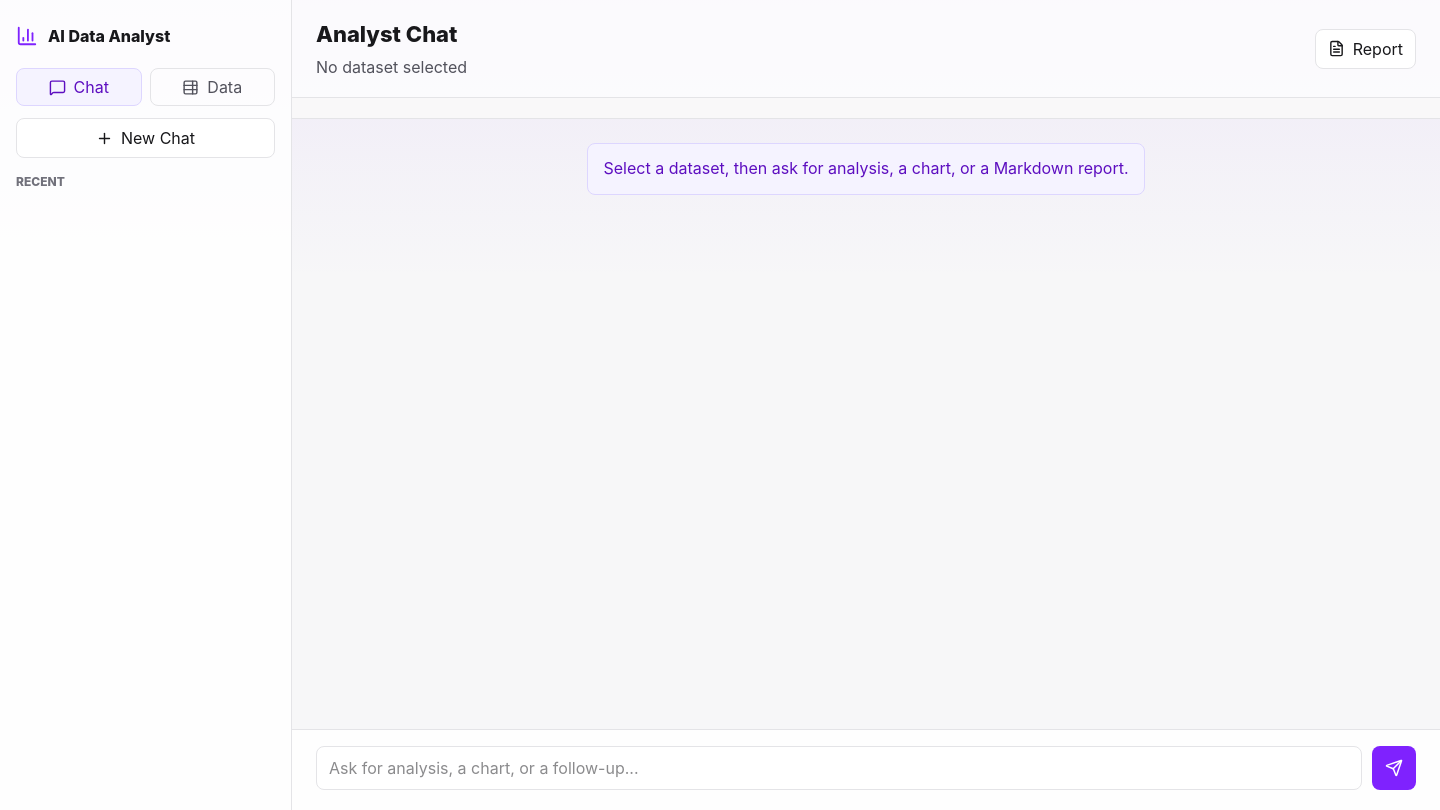
Scenario: App chart artifacts › keeps the app visible when Plotly rendering fails
This screenshot has width=1440, height=810.
Type "draw a chart" into the field with placeholder "Ask for analysis, a chart, or a follow-up..." at (839, 768), box [316,746,1362,790]
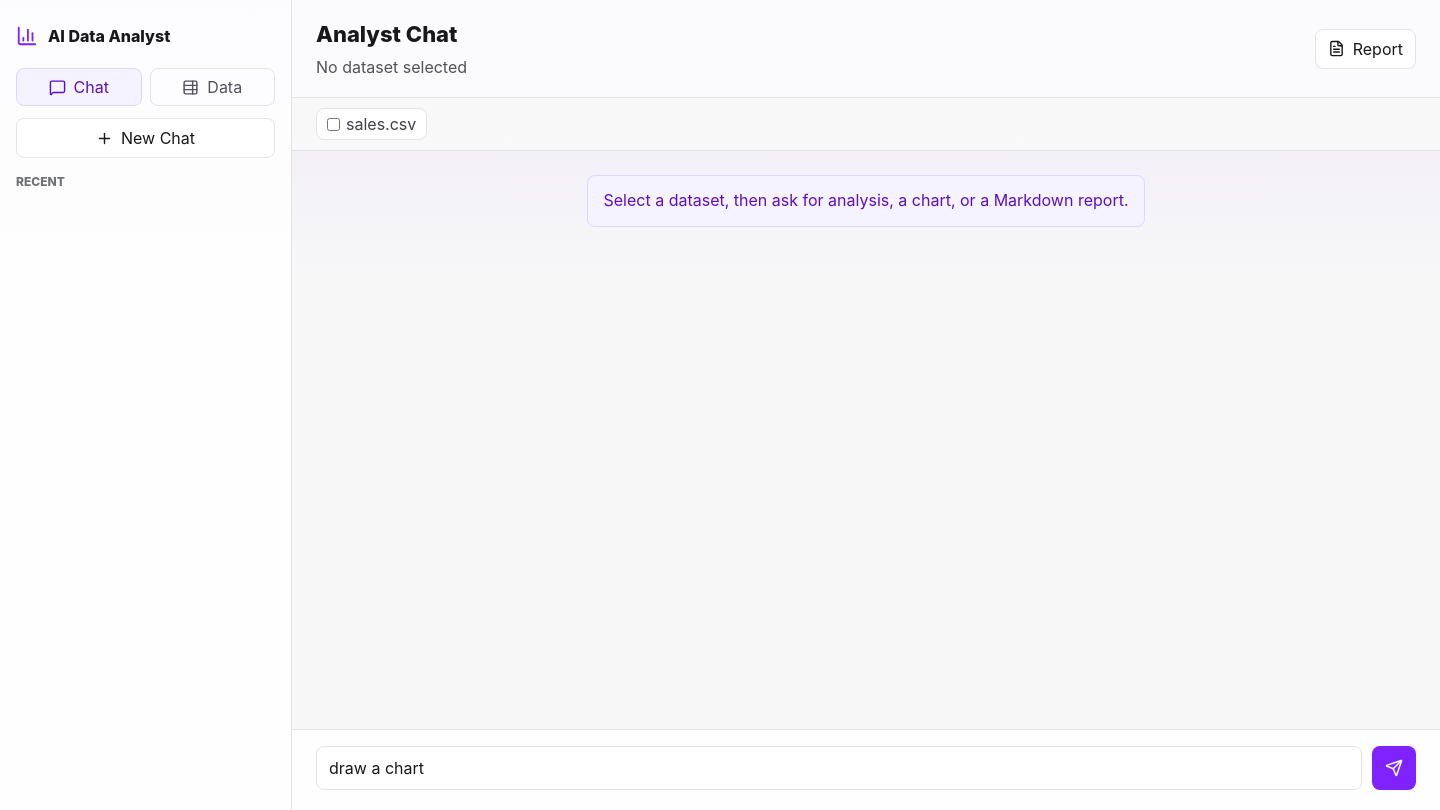
Click the button named "send message" at (1394, 768), box [1372,746,1416,790]
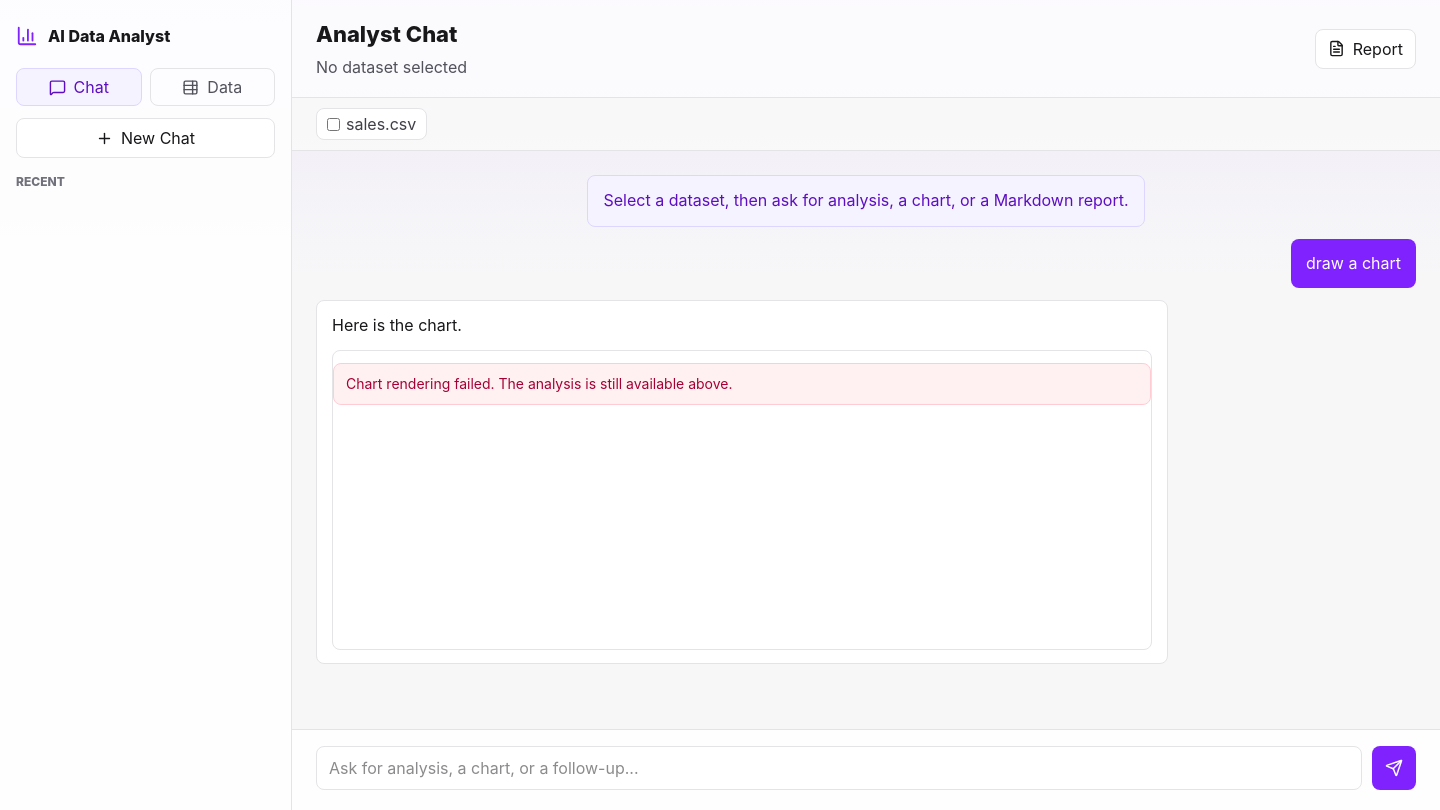
Check: the text "AI Data Analyst" is shown, box [48,24,170,48]
Check: the text "Here is the chart." is shown, box [332,315,462,335]
Check: the text "Chart rendering failed" is shown, box [346,375,732,392]
